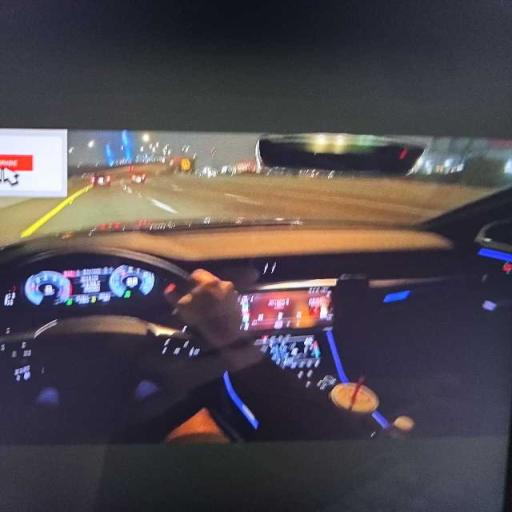car: (0, 134, 511, 510), (90, 173, 111, 186), (132, 172, 146, 184)
lane: (0, 167, 490, 243)
